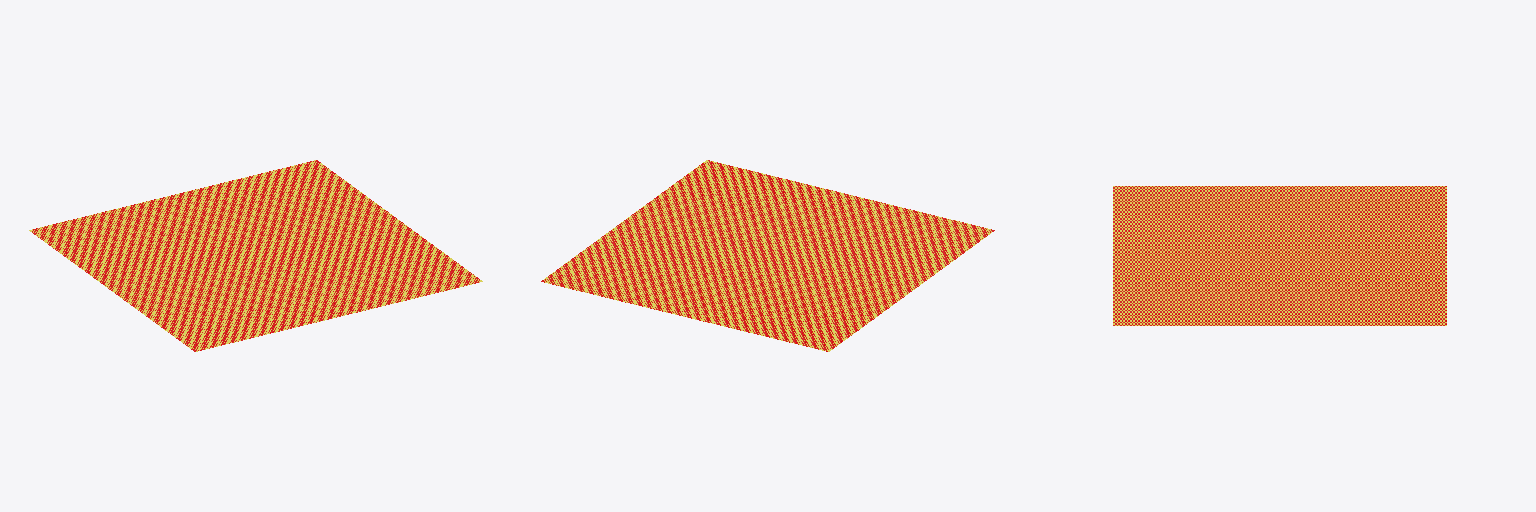
3 views of the same model, side by side, from view 1: azimuth 30°, elevation 25°; view 2: azimuth 150°, elevation 25°; view 3: azimuth 270°, elevation 25° (orthographic).
Parts seen in each view (by area): view 1: Plane_Plane.001; view 2: Plane_Plane.001; view 3: Plane_Plane.001.
Part boxes in pixels (x1,y1,x2,y2): Plane_Plane.001: (29, 160, 482, 351); Plane_Plane.001: (541, 160, 994, 351); Plane_Plane.001: (1113, 186, 1446, 325).
Size of the model in its own units: 200 by 0 by 200.
1 materials, 1 textured.